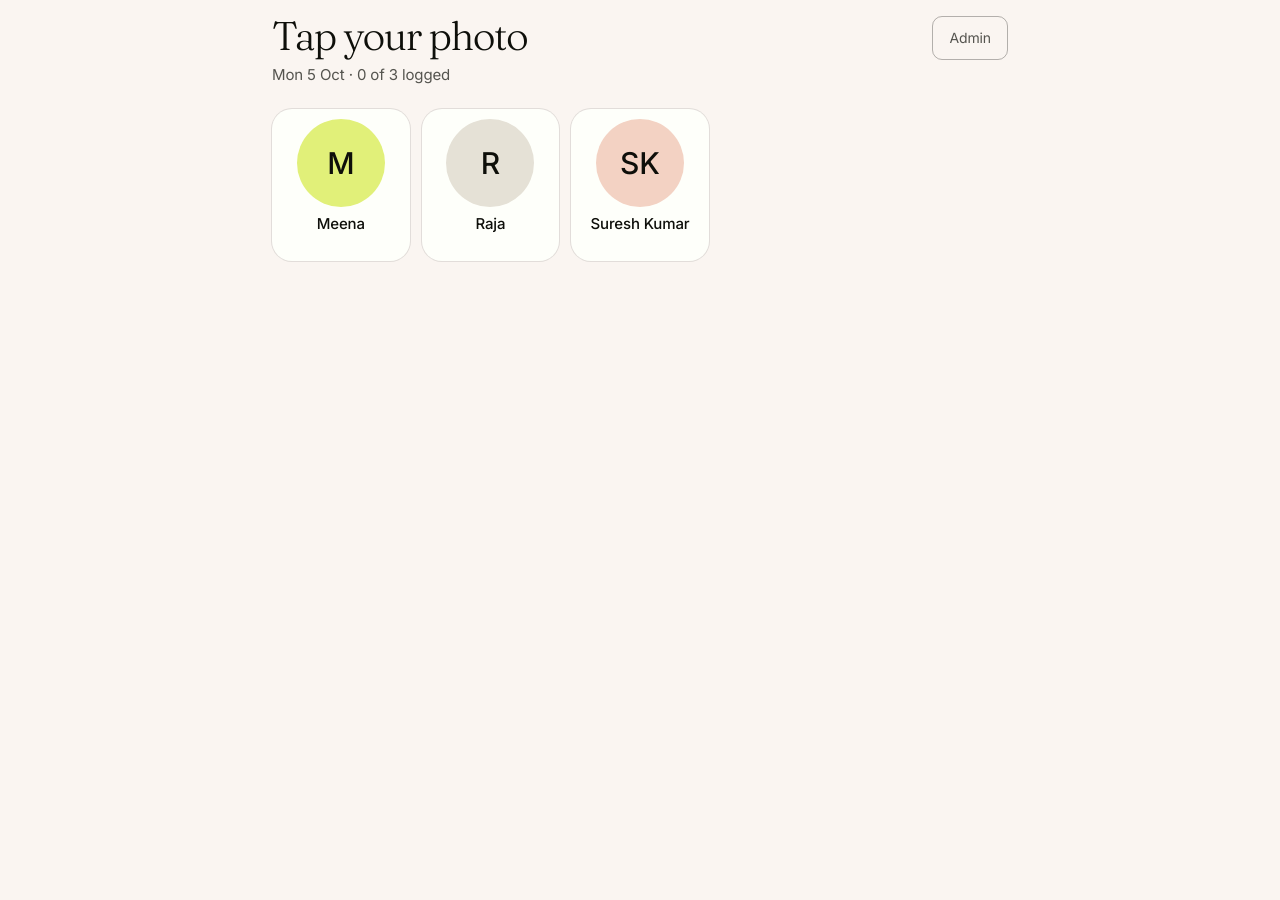
it: Gate mode: the grid › refuses to overwrite someone logged from another device a moment ago
This screenshot has width=1280, height=900.
Click the button with aria-label "Raja: log arrival": {"x": 490, "y": 185} [422,109,559,261]
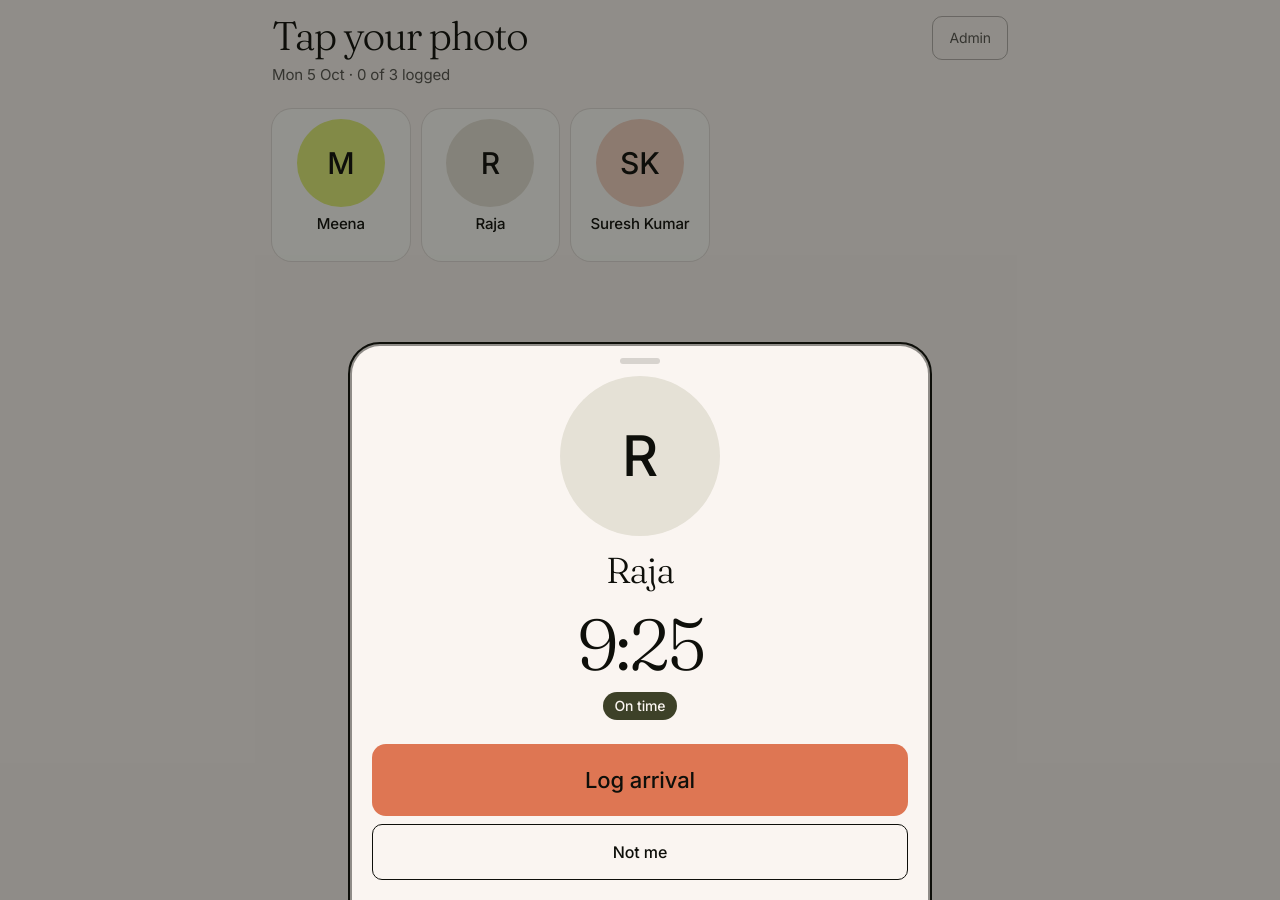
Click the button "Log arrival": {"x": 640, "y": 780} [372,744,908,816]
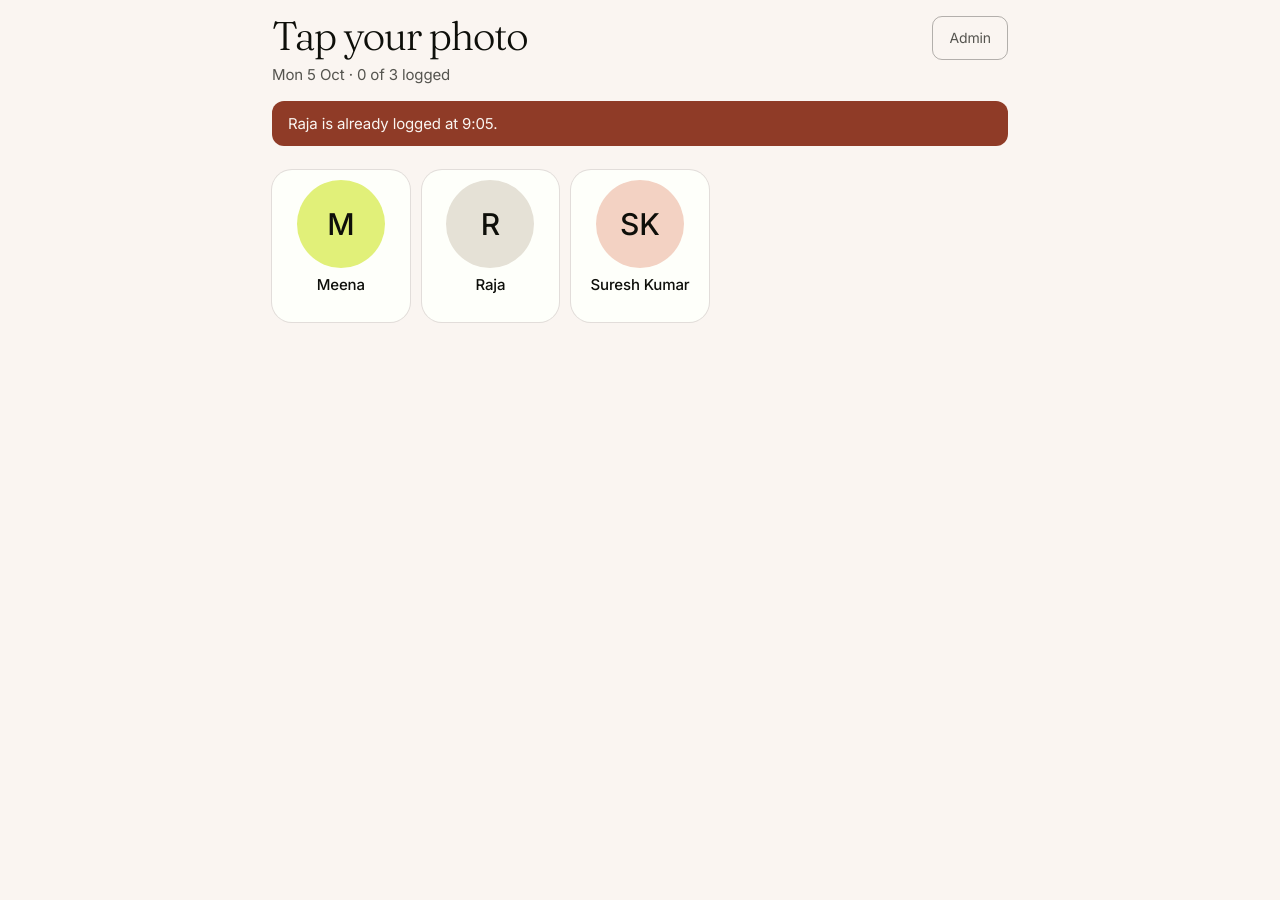
Expected: the text "Raja is already logged at 9:05." is shown, [272,101,1008,146]
